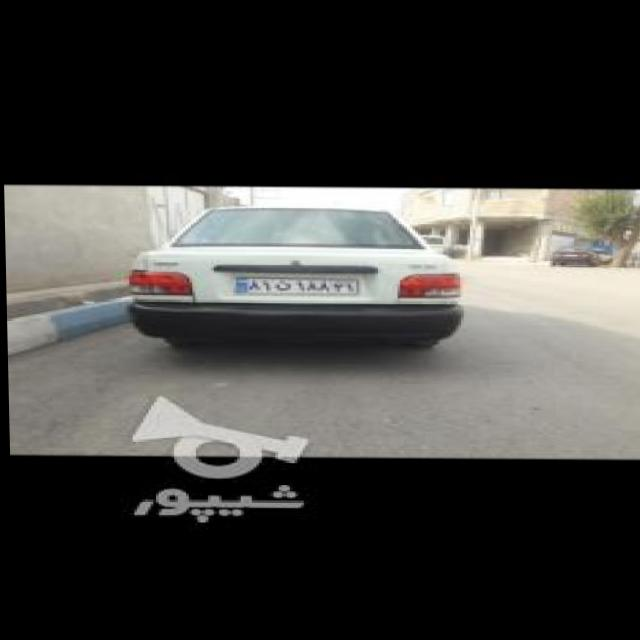licence: (229, 272, 369, 290)
